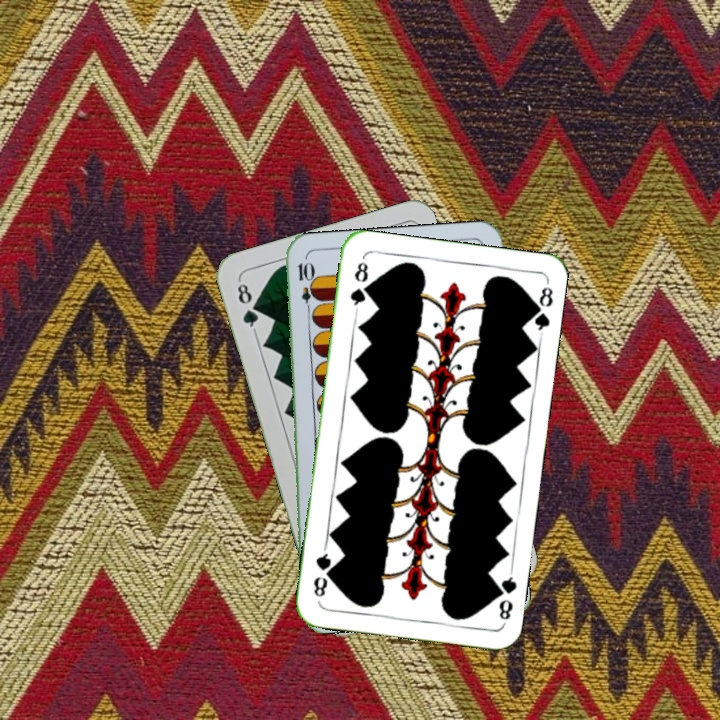E10: (294, 258, 315, 317)
G8: (490, 566, 519, 625), (233, 276, 262, 334), (345, 258, 371, 314)
